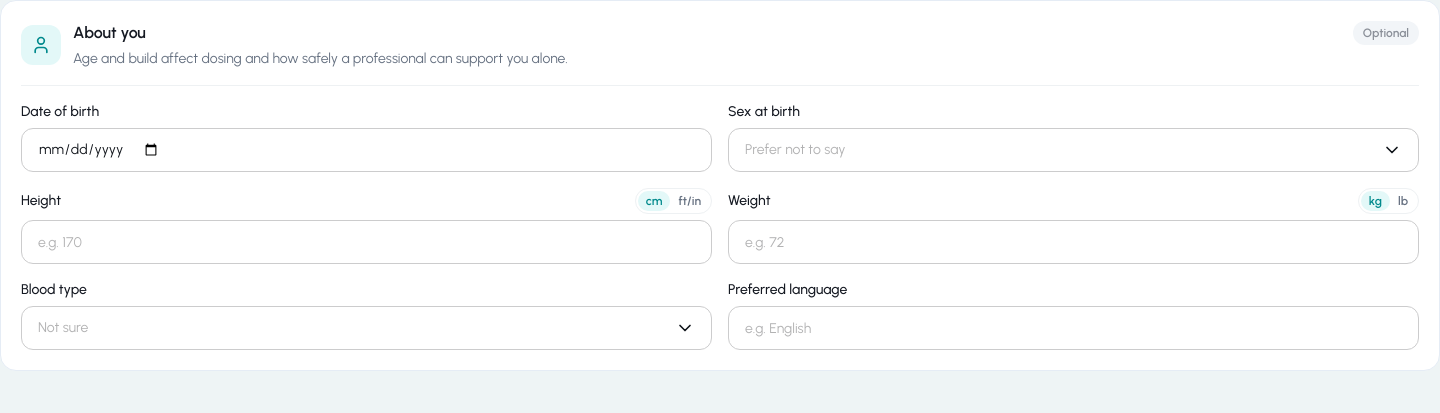
Test: height and weight units › stores centimetres when entered in cm, and shows the imperial equivalent
Step 1. Type "175" into the number field named "Height in centimetres" → x=366, y=242, box [21,220,712,264]
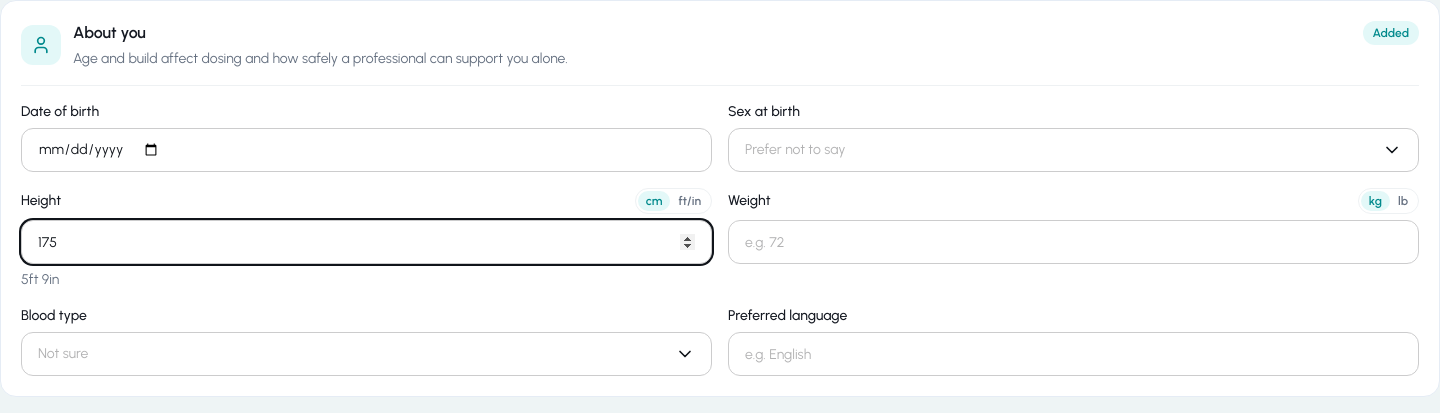
Result: the text "5ft 9in" is shown at [21,271,59,288]
